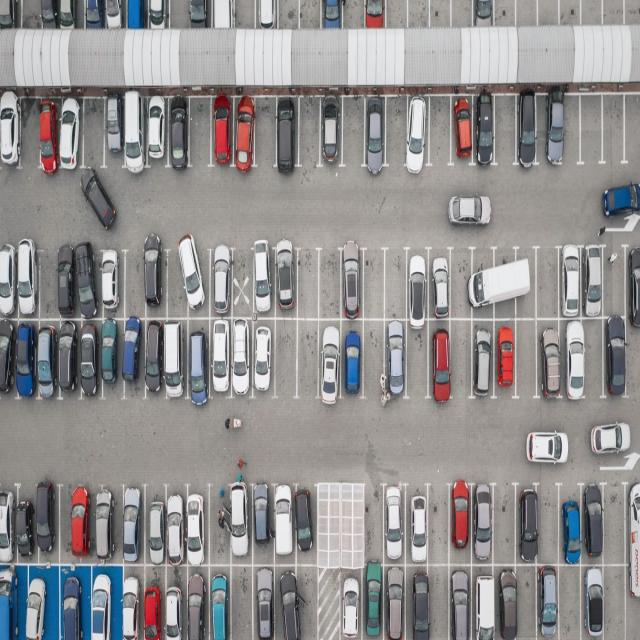space-empty: (512, 320, 538, 399), (272, 318, 298, 395), (405, 321, 431, 398), (448, 319, 473, 399), (292, 564, 319, 638), (557, 563, 583, 638), (254, 93, 280, 168), (601, 247, 627, 321), (230, 564, 256, 638), (423, 564, 449, 638), (492, 486, 516, 565), (492, 94, 518, 166), (188, 97, 214, 169), (297, 318, 321, 396), (82, 98, 108, 170), (426, 485, 449, 566), (228, 244, 253, 318), (361, 321, 385, 398), (534, 249, 560, 320), (580, 318, 602, 401), (20, 96, 44, 172), (426, 97, 452, 167), (537, 487, 560, 566), (604, 563, 628, 638), (293, 251, 319, 320), (448, 250, 474, 319), (602, 484, 624, 565), (208, 489, 231, 566), (603, 96, 628, 166), (342, 95, 366, 167), (515, 566, 539, 638), (316, 252, 341, 321), (362, 489, 384, 567), (298, 98, 323, 166), (580, 96, 604, 166), (384, 98, 408, 168), (360, 252, 385, 319), (383, 252, 407, 321), (560, 94, 582, 168), (125, 247, 148, 317), (166, 244, 188, 317), (38, 246, 59, 316), (318, 492, 336, 566), (58, 486, 74, 564), (625, 323, 640, 398), (624, 94, 640, 162), (384, 0, 408, 29), (277, 0, 300, 30), (298, 0, 321, 29), (342, 0, 365, 28), (451, 0, 474, 28), (233, 0, 256, 28), (430, 0, 453, 28), (21, 0, 43, 29), (168, 0, 190, 29), (408, 0, 430, 29), (601, 0, 624, 25), (516, 1, 538, 27), (493, 0, 515, 26), (536, 0, 558, 25), (558, 0, 580, 24), (581, 0, 602, 24), (624, 0, 640, 25)
space-occupied: (16, 564, 52, 640), (84, 566, 117, 640), (561, 317, 590, 398), (32, 563, 63, 638), (537, 320, 565, 401), (58, 567, 89, 640), (186, 319, 213, 402), (65, 484, 93, 562), (183, 241, 211, 317), (446, 482, 472, 563), (207, 244, 235, 318), (74, 246, 102, 320), (426, 321, 452, 400), (206, 319, 232, 398), (122, 96, 149, 172), (491, 245, 519, 318), (380, 483, 405, 564), (558, 248, 586, 320), (122, 319, 148, 396), (30, 482, 56, 559), (161, 318, 186, 398), (472, 564, 499, 638), (251, 319, 277, 395), (492, 318, 518, 394), (13, 243, 39, 319), (120, 563, 146, 639), (92, 486, 118, 562), (380, 319, 405, 398), (142, 96, 169, 169), (404, 97, 431, 170), (404, 250, 432, 320), (604, 319, 629, 397), (471, 319, 496, 397), (140, 564, 166, 639), (227, 319, 252, 397), (58, 97, 84, 172), (560, 486, 585, 564), (121, 485, 146, 563), (448, 564, 474, 638), (318, 316, 342, 396), (226, 482, 250, 562), (12, 319, 36, 399), (101, 247, 128, 318), (166, 98, 192, 171), (160, 567, 186, 640), (472, 245, 498, 318), (472, 485, 496, 564), (406, 484, 430, 563), (514, 484, 538, 563), (449, 96, 476, 166), (207, 564, 232, 639), (340, 318, 364, 396), (543, 94, 569, 166), (209, 96, 234, 170), (254, 243, 279, 317), (518, 94, 543, 168), (183, 564, 208, 638), (272, 246, 298, 317), (37, 99, 61, 175), (536, 563, 560, 638), (101, 317, 124, 395), (254, 565, 278, 639), (274, 564, 298, 638), (274, 97, 299, 168), (341, 569, 366, 640), (58, 319, 81, 396), (82, 320, 105, 397), (426, 251, 452, 319), (494, 567, 518, 640), (232, 98, 257, 168), (318, 97, 343, 167), (578, 562, 601, 638), (579, 246, 603, 318), (104, 98, 128, 170), (512, 246, 536, 318), (273, 485, 296, 560), (184, 489, 207, 564), (35, 321, 58, 396), (165, 489, 188, 564), (381, 563, 404, 638), (250, 486, 272, 564), (144, 319, 166, 396), (364, 98, 388, 168), (360, 567, 383, 640), (143, 488, 165, 564), (293, 490, 315, 565), (0, 95, 22, 170), (581, 487, 602, 565), (406, 564, 428, 638), (144, 246, 167, 316), (340, 251, 364, 318), (474, 96, 496, 167), (17, 486, 36, 560), (1, 567, 20, 640), (0, 242, 18, 317), (58, 246, 77, 317), (0, 490, 17, 566), (625, 482, 640, 563), (625, 561, 640, 637), (0, 320, 14, 397), (626, 247, 640, 324), (318, 0, 343, 29), (57, 0, 82, 29), (84, 0, 108, 30), (256, 0, 280, 29), (146, 0, 170, 29), (364, 0, 387, 29), (210, 0, 233, 29), (125, 0, 148, 29), (187, 0, 210, 28), (103, 0, 124, 29), (473, 0, 496, 26), (0, 0, 20, 29), (40, 0, 58, 29)
